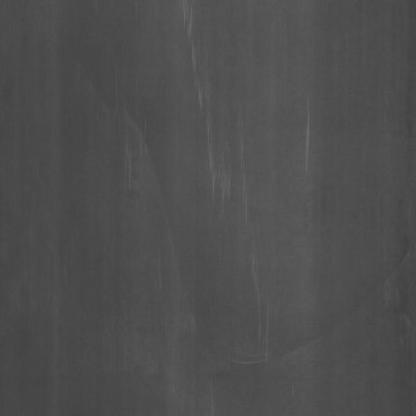silk_spot: (168, 9, 252, 230), (246, 248, 276, 347), (299, 104, 318, 184)
